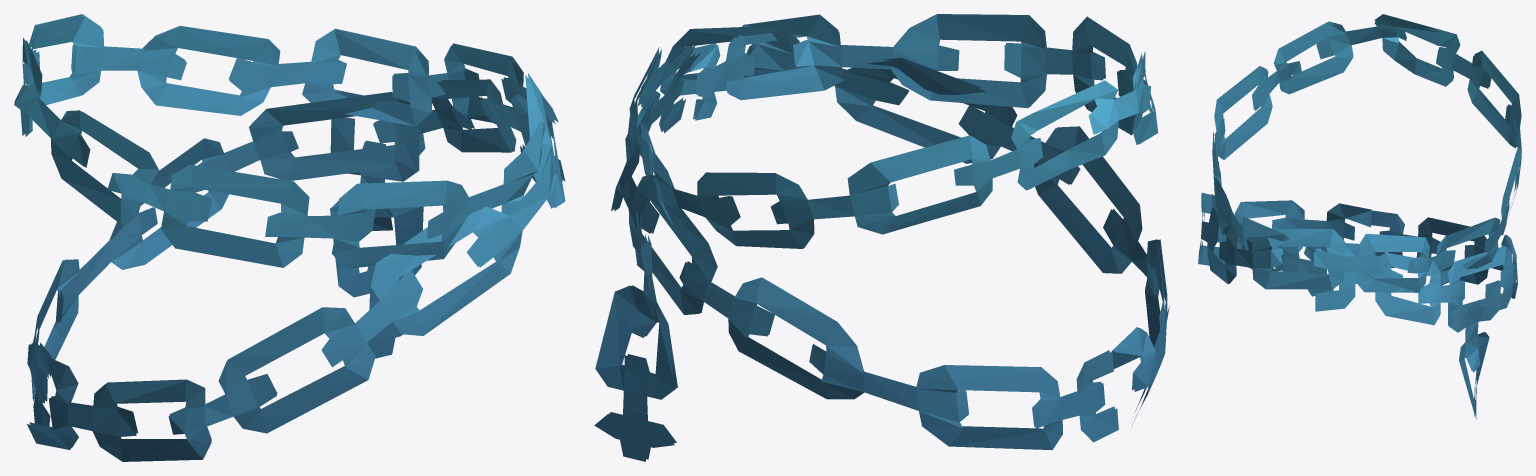
The model's file is CharSkyNPC_Horn_MCivilianChains.glb.
3 renders of one model, left to right at view 1: azimuth 30°, elevation 25°; view 2: azimuth 150°, elevation 25°; view 3: azimuth 270°, elevation 25°, orthographic. The views are drawn at different scales.
Parts seen in each view (by area): view 1: CharSkyNPC_Horn_MCivilianChains; view 2: CharSkyNPC_Horn_MCivilianChains; view 3: CharSkyNPC_Horn_MCivilianChains.
Boxes of the visible parts, x1,y1,x2,y2 form: CharSkyNPC_Horn_MCivilianChains: [14, 14, 565, 461]; CharSkyNPC_Horn_MCivilianChains: [594, 14, 1169, 461]; CharSkyNPC_Horn_MCivilianChains: [1198, 14, 1521, 419].
Bounding box in the file's own units: 3.38 × 2.79 × 2.69.
1 material, 1 textured.
